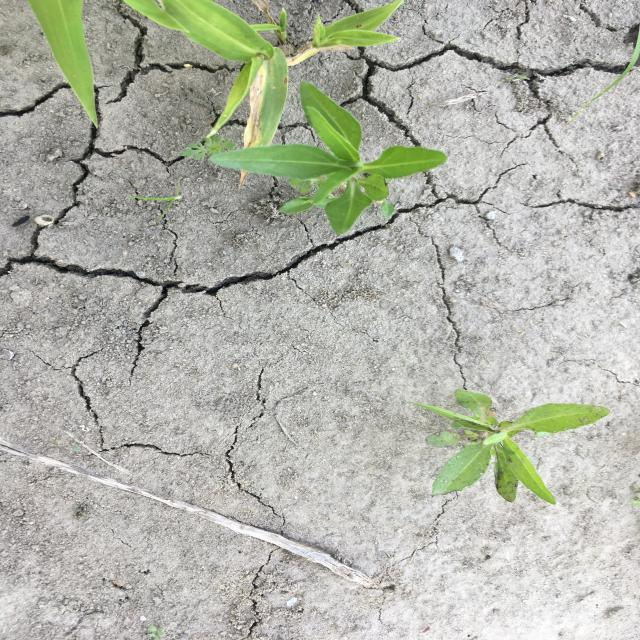Eclipta: (207, 80, 450, 237), (406, 389, 612, 506)
Ragweed: (177, 131, 240, 165)
